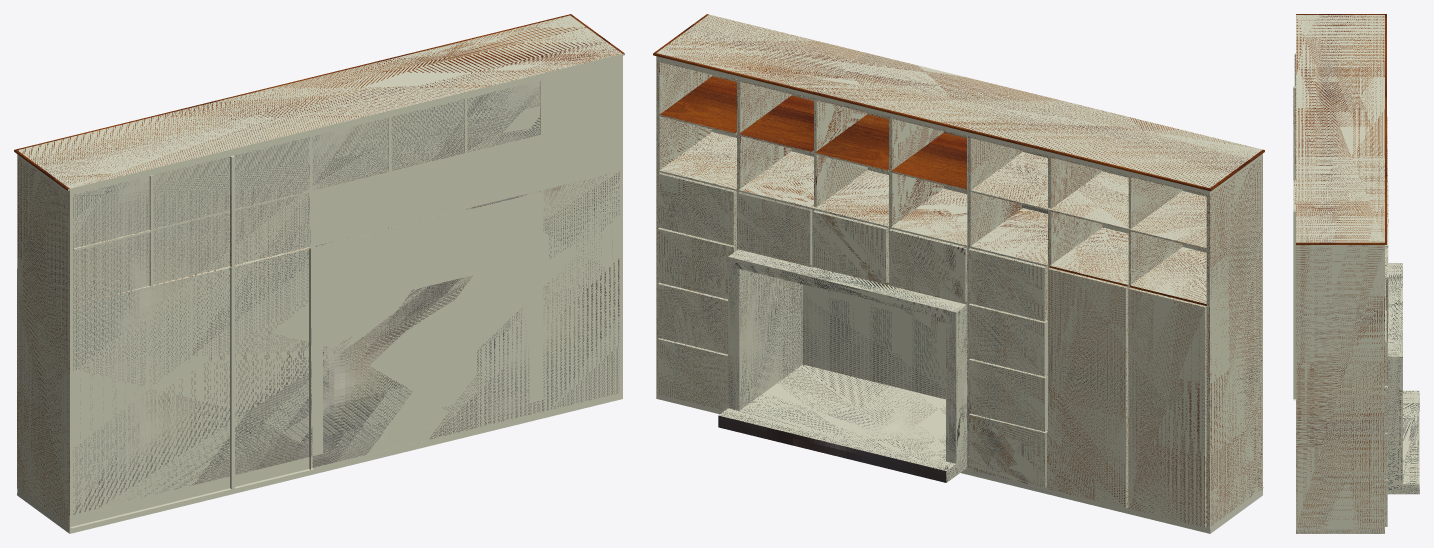
The picture shows the model from 3 angles, left to right: view 1: azimuth 30°, elevation 25°; view 2: azimuth 150°, elevation 25°; view 3: azimuth 270°, elevation 25°; orthographic projection. The views are drawn at different scales.
Parts seen in each view (by area): view 1: mesh1_mesh1-geometry; view 2: mesh1_mesh1-geometry; view 3: mesh1_mesh1-geometry.
Boxes of the visible parts, box(x1,y1,x2,y2) form: mesh1_mesh1-geometry: box(14, 14, 624, 533); mesh1_mesh1-geometry: box(653, 14, 1264, 533); mesh1_mesh1-geometry: box(1293, 14, 1419, 533).
Bounding box in the file's own units: 0.8437 × 0.4995 × 0.1967.
